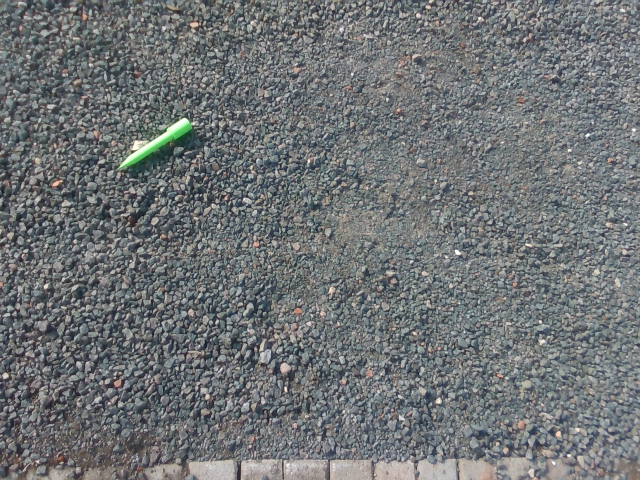Probe: (110, 115, 196, 180)
